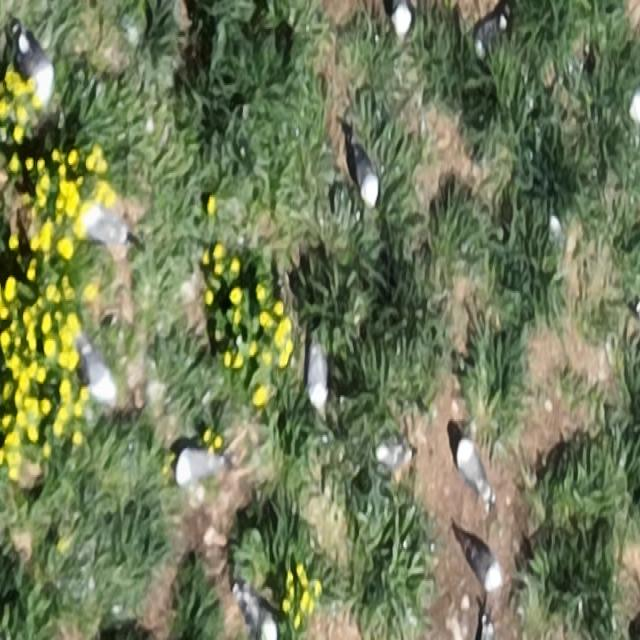umineko: (80, 340, 115, 401), (177, 446, 225, 485), (20, 36, 52, 94), (475, 12, 510, 61), (308, 334, 330, 407), (468, 543, 502, 587), (457, 442, 486, 491), (87, 214, 133, 244), (248, 598, 279, 638), (356, 151, 380, 201), (376, 445, 411, 469), (390, 0, 414, 35)
